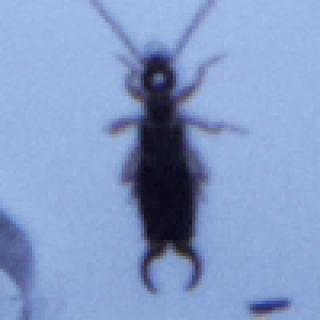earwig: (86, 0, 255, 294)
